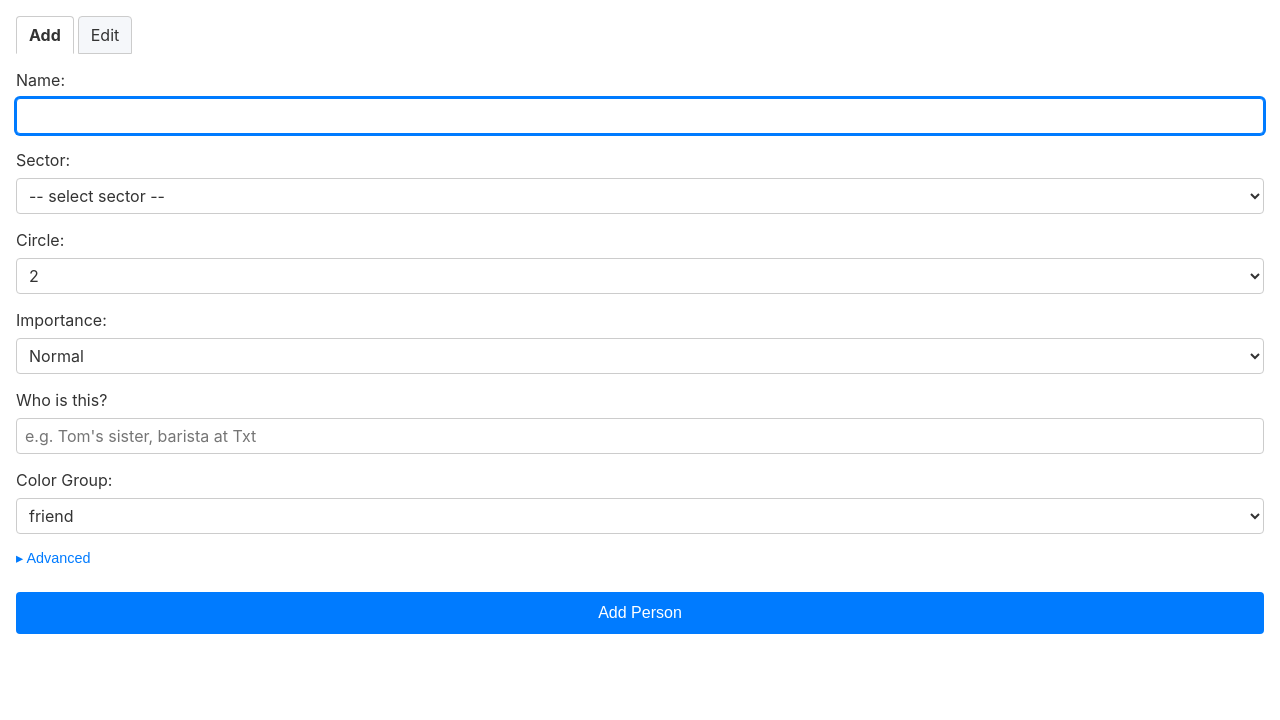
Scenario: Add person flow › keeps sector but clears name after add, with a confirmation
Type "Bob" into the field labelled "Name:" at (640, 116), box top-left (16, 98), bottom-right (1264, 134)
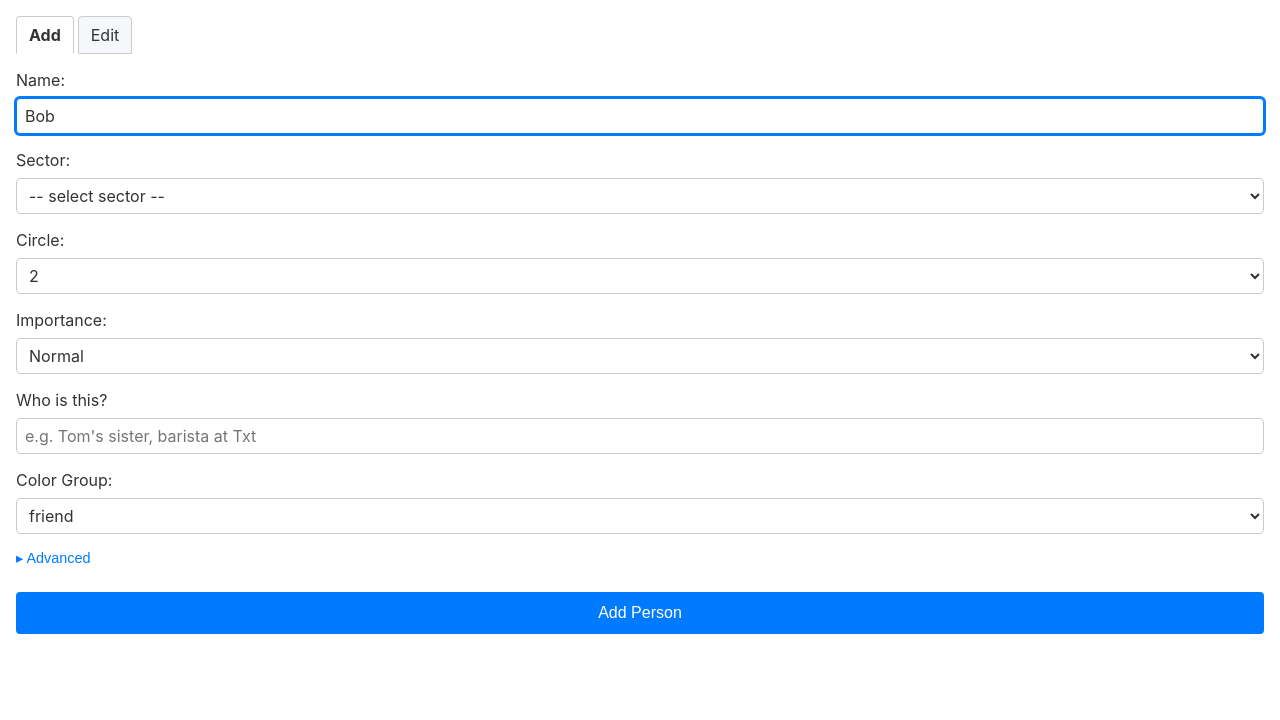
Select "Work" in the dropdown labelled "Sector:" at (640, 196), box top-left (16, 178), bottom-right (1264, 214)
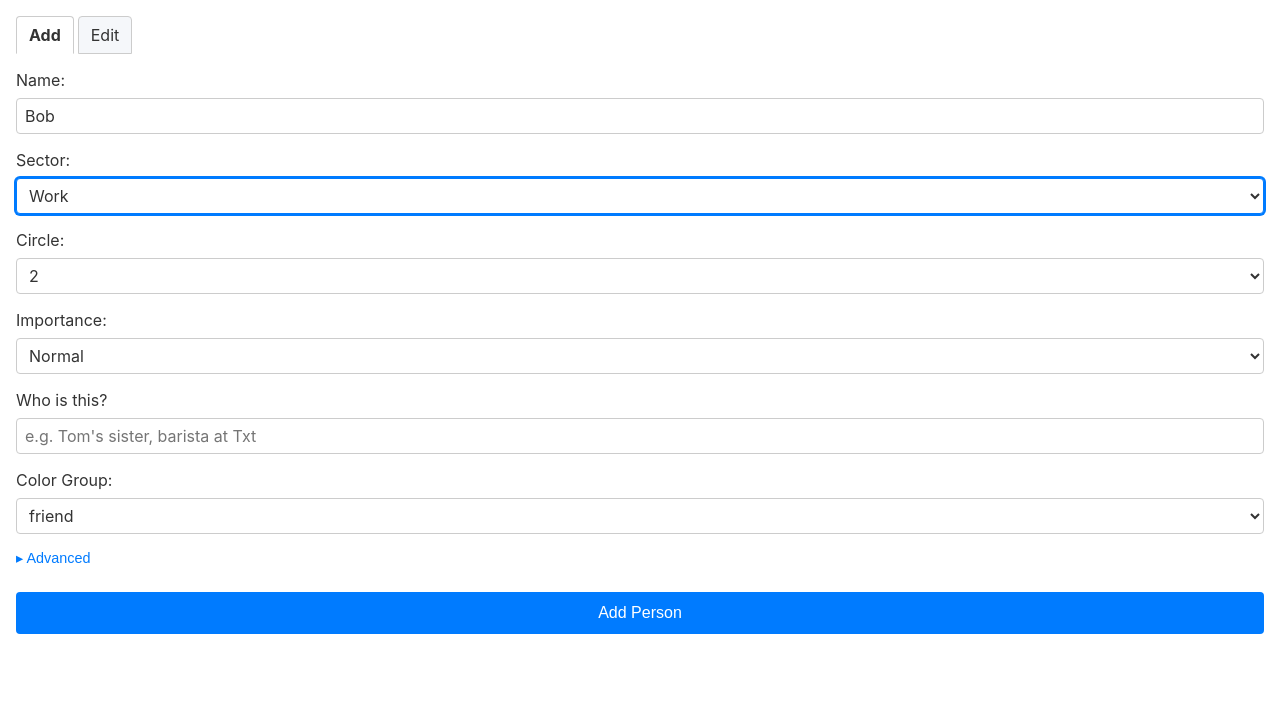
Click the button "Add Person" at (640, 613), box top-left (16, 592), bottom-right (1264, 634)
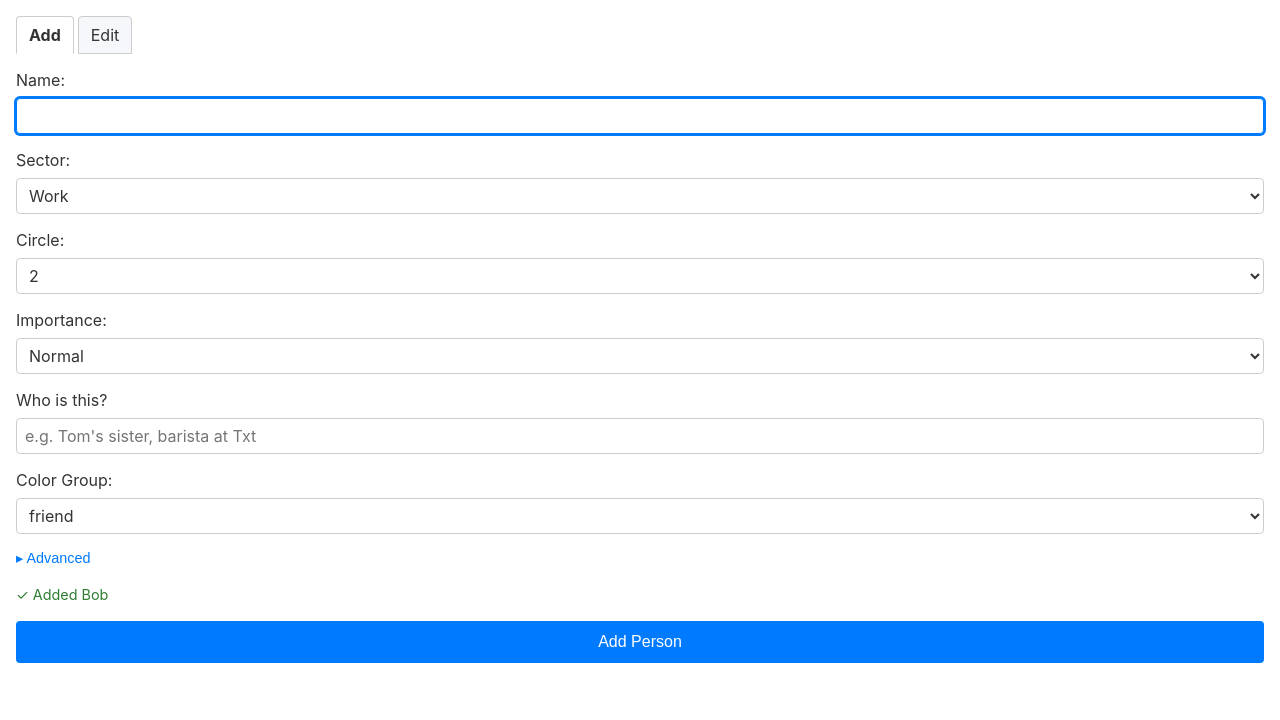
Result: the field labelled "Name:" is empty at top-left (16, 98), bottom-right (1264, 134)
Result: the text "✓ Added Bob" is shown at top-left (16, 586), bottom-right (108, 603)
